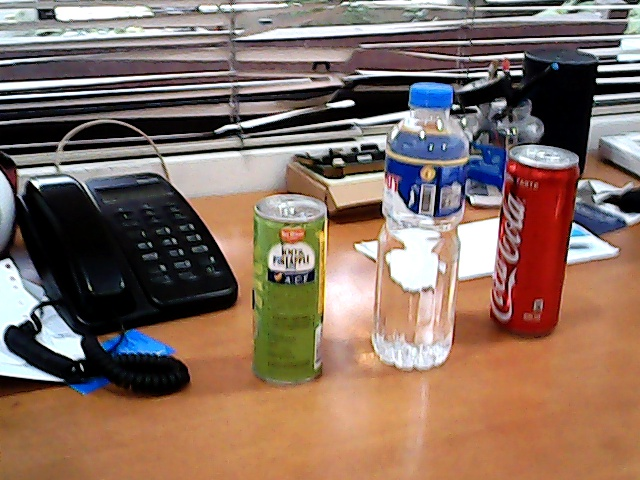Cola: (478, 132, 591, 353)
Pine Juice: (237, 185, 337, 398)
Summit Water: (360, 76, 482, 389)
